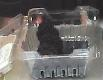berry: (40, 34, 62, 51), (37, 22, 58, 38), (38, 41, 56, 54)
